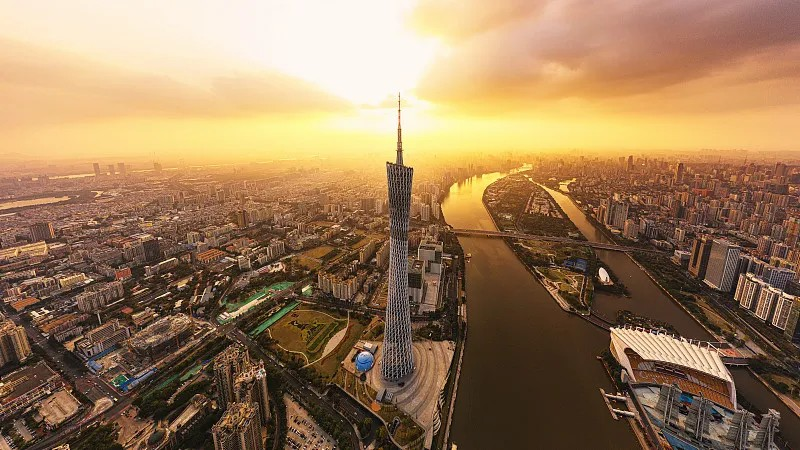Canton: (379, 92, 414, 383)
